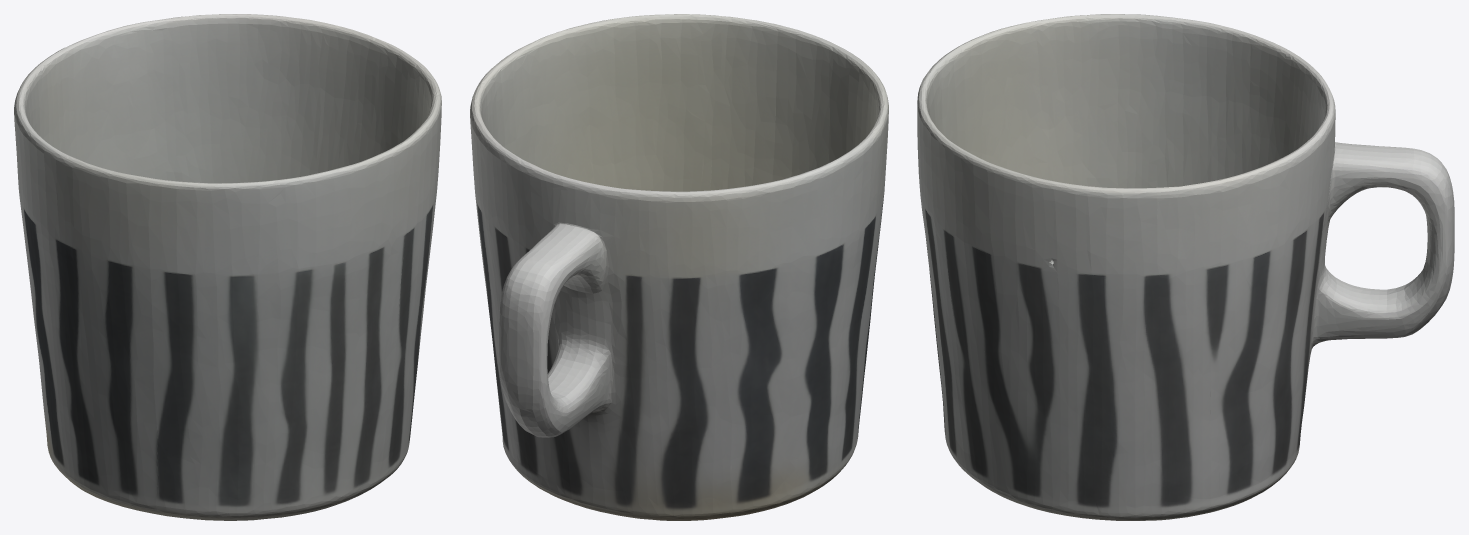
3 renders of one model, left to right at view 1: azimuth 30°, elevation 25°; view 2: azimuth 150°, elevation 25°; view 3: azimuth 270°, elevation 25°, orthographic. The views are drawn at different scales.
Visible parts, largest first — view 1: g0; view 2: g0; view 3: g0.
Part boxes in pixels (bbox=[...]): g0: bbox=[14, 14, 441, 520]; g0: bbox=[470, 14, 888, 520]; g0: bbox=[917, 14, 1454, 520].
Bounding box in the file's own units: 1.58 × 1.46 × 2.
Materials: 1 (1 with a texture image).
